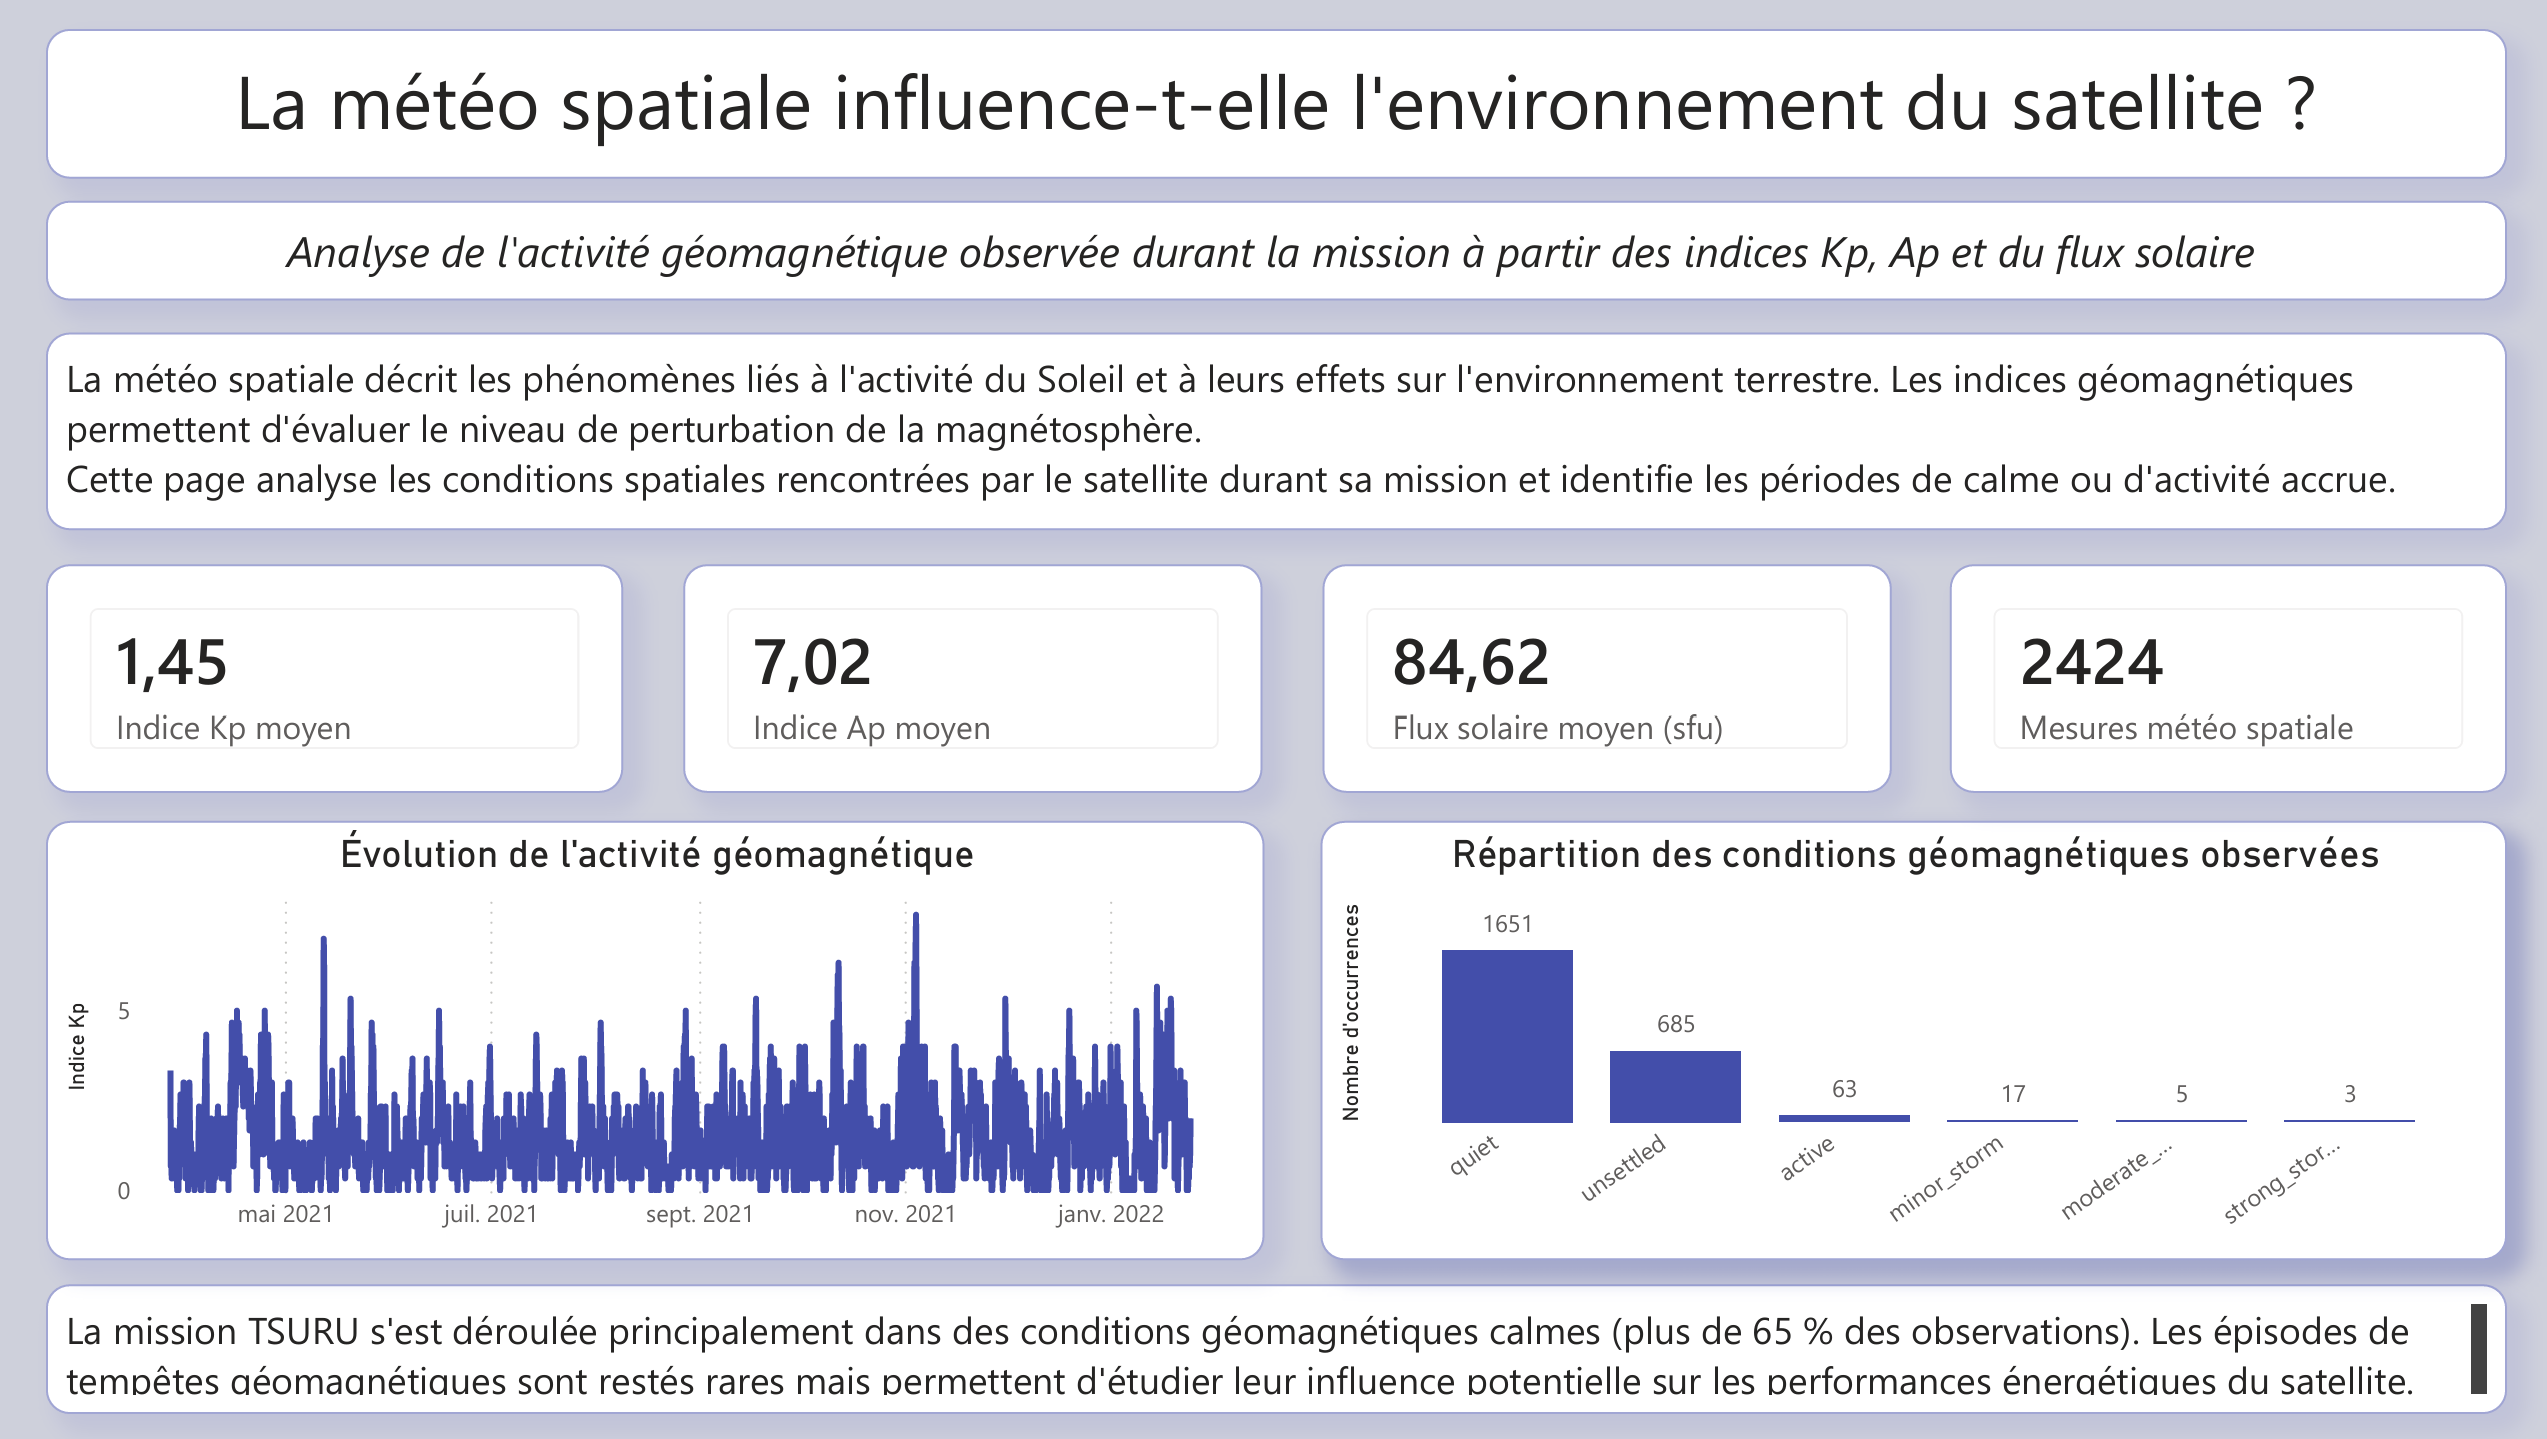

The page's visual inventory and layout, read from the dashboard file:
{"tool":"powerbi","page":{"name":"03 Météo spatiale","canvas":[1280,720],"ordinal":2},"visuals":[{"type":"textbox","box":[26.4,14.2,1231.2,75.2],"z":0},{"type":"textbox","box":[25.8,166,1232.4,98.8],"z":1000},{"type":"textbox","box":[26.4,642,1231.2,65],"z":2000},{"type":"textbox","box":[26.4,99.6,1231.2,50.8],"z":3000},{"type":"cardVisual","fields":{"Data":["BIRDS_Mesures.Avg Kp"]},"box":[26.4,282.4,288.5,113.8],"z":4000},{"type":"cardVisual","fields":{"Data":["BIRDS_Mesures.Avg Ap"]},"box":[344.7,282.4,290.5,113.8],"z":5000},{"type":"cardVisual","fields":{"Data":["BIRDS_Mesures.Avg Fobs"]},"box":[665.1,282.4,284.4,113.8],"z":6000},{"type":"lineChart","title":"Évolution de l''activité géomagnétique","fields":{"Y":["Avg(BIRDS_Dim_weather.kp_index)"],"Category":["BIRDS_Dim_weather.time_tag"]},"box":[26.4,410.4,609.5,219.4],"z":7000},{"type":"columnChart","title":"Répartition des conditions géomagnétiques observées","fields":{"Category":["BIRDS_Dim_weather.geomagnetic_level"],"Y":["BIRDS_Mesures.Nb événements"]},"box":[664.4,410.4,593.3,219.4],"z":8000},{"type":"cardVisual","fields":{"Data":["BIRDS_Mesures.Nb événements"]},"box":[979.3,282.4,278.3,113.8],"z":9001}]}

Visuals, with their boxes in screenshot pixels (x1, y1, x2, y2), scaled from the page's 1280x720 canvas onto the 2547x1439 screenshot:
textbox: 53/28/2502/179
textbox: 51/332/2504/529
textbox: 53/1283/2502/1413
textbox: 53/199/2502/301
cardVisual - BIRDS_Mesures.Avg Kp: 53/564/627/792
cardVisual - BIRDS_Mesures.Avg Ap: 686/564/1264/792
cardVisual - BIRDS_Mesures.Avg Fobs: 1323/564/1889/792
"Évolution de l''activité géomagnétique" lineChart: 53/820/1265/1259
"Répartition des conditions géomagnétiques observées" columnChart: 1322/820/2503/1259
cardVisual - BIRDS_Mesures.Nb événements: 1949/564/2502/792
